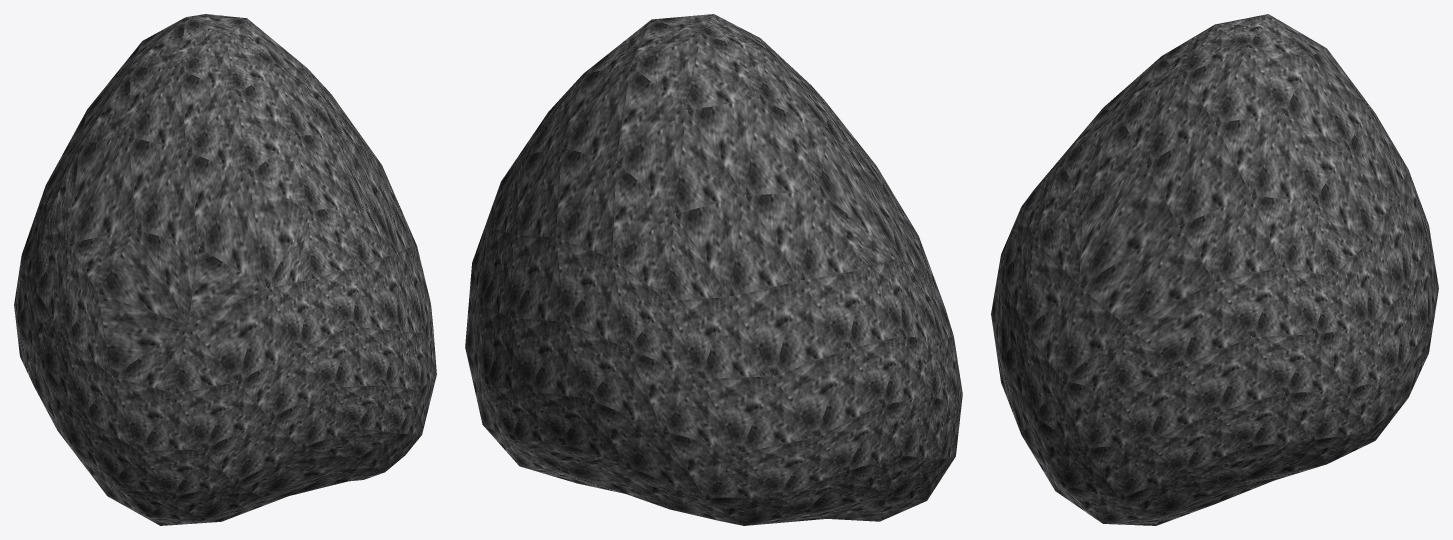
Rendered from asteroid1.fbx.
The picture shows the model from 3 angles, left to right: view 1: azimuth 30°, elevation 25°; view 2: azimuth 150°, elevation 25°; view 3: azimuth 270°, elevation 25°; orthographic projection. The views are drawn at different scales.
Visible parts, largest first — view 1: Asteroid; view 2: Asteroid; view 3: Asteroid.
Boxes of the visible parts, x1,y1,x2,y2 form: Asteroid: (14,14,436,525); Asteroid: (465,14,962,525); Asteroid: (991,14,1438,525).
Bounding box in the file's own units: 2 × 2.24 × 2.
